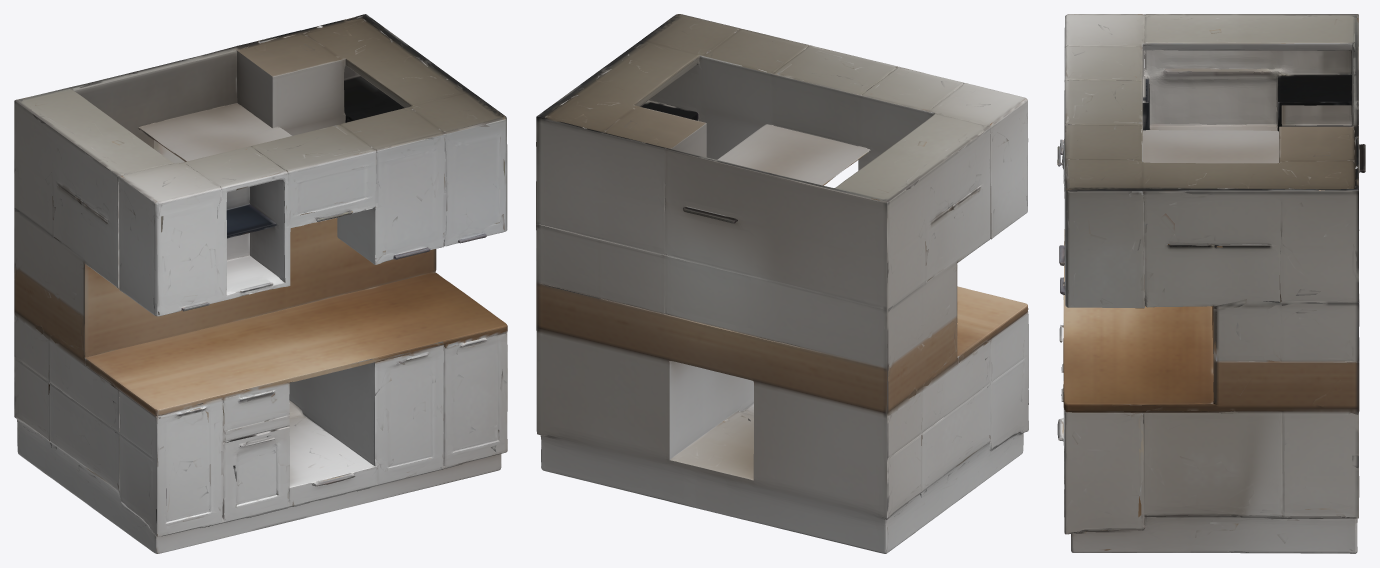
The picture shows the model from 3 angles, left to right: view 1: azimuth 30°, elevation 25°; view 2: azimuth 150°, elevation 25°; view 3: azimuth 270°, elevation 25°; orthographic projection. The views are drawn at different scales.
Visible parts, largest first — view 1: world; view 2: world; view 3: world.
Part boxes in pixels (x1,y1,x2,y2): world: [14, 14, 507, 553]; world: [536, 14, 1028, 553]; world: [1057, 14, 1365, 553].
Size of the model in its own units: 1 by 0.963 by 0.7345.
Materials: 1 (1 with a texture image).
